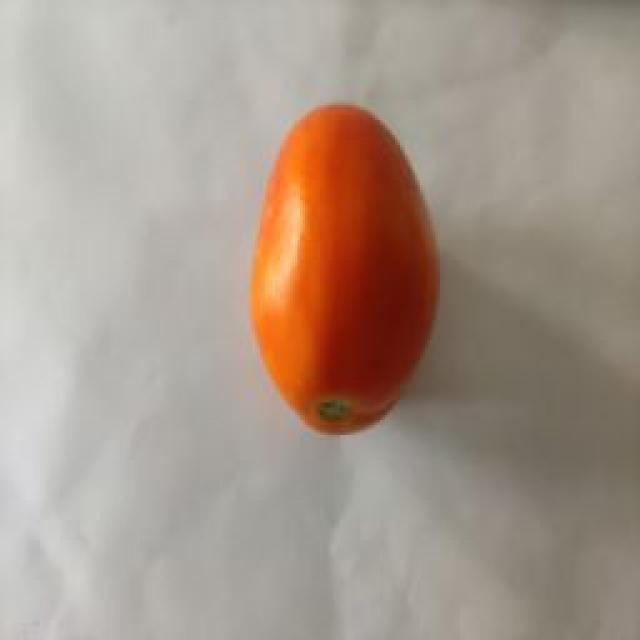tomato: (250, 104, 440, 436)
